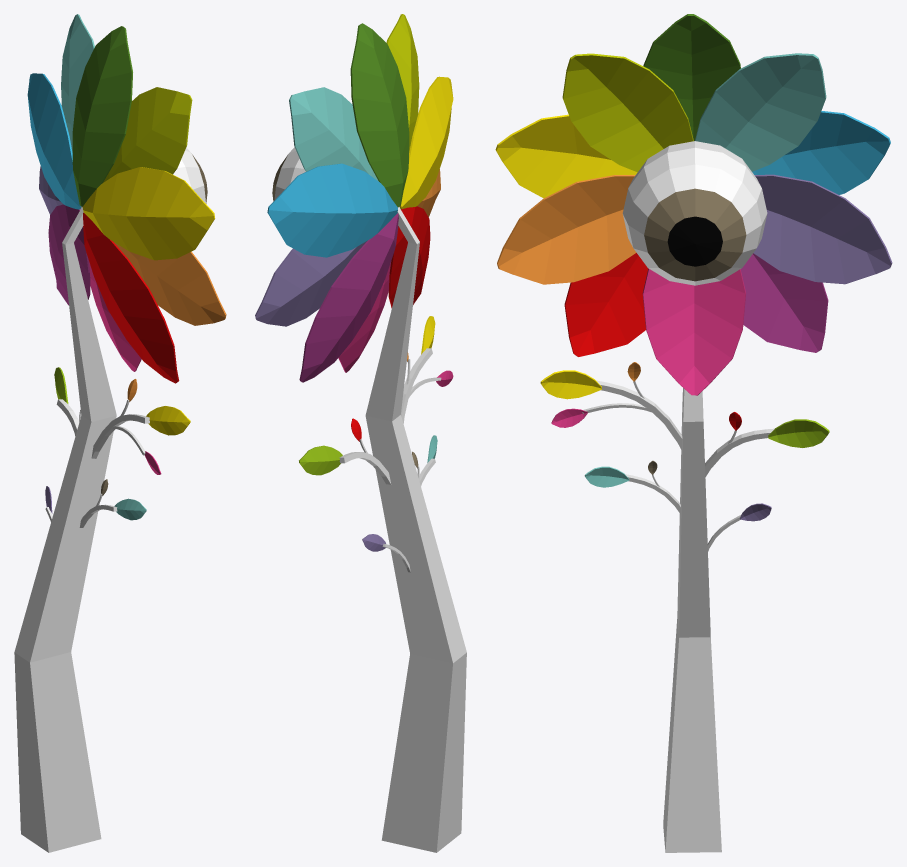
File: SM_Flor_Gra.fbx
3 views of the same model, side by side, from view 1: azimuth 30°, elevation 25°; view 2: azimuth 150°, elevation 25°; view 3: azimuth 270°, elevation 25° (orthographic). The views are drawn at different scales.
Visible parts, largest first — view 1: FLOR_GRA_PETALOS, FLOR_GRA_TALLO, FLOR_GRA_HOJAS; view 2: FLOR_GRA_PETALOS, FLOR_GRA_TALLO, FLOR_GRA_HOJAS; view 3: FLOR_GRA_PETALOS, FLOR_GRA_TALLO, FLOR_GRA_HOJAS.
Boxes of the visible parts, x1,y1,x2,y2 form: FLOR_GRA_PETALOS: (27,14,226,383); FLOR_GRA_TALLO: (14,207,149,852); FLOR_GRA_HOJAS: (45,367,190,520); FLOR_GRA_PETALOS: (255,14,453,382); FLOR_GRA_TALLO: (339,207,466,852); FLOR_GRA_HOJAS: (299,316,453,551); FLOR_GRA_PETALOS: (495,14,892,395); FLOR_GRA_TALLO: (582,380,774,852); FLOR_GRA_HOJAS: (540,362,829,521).
Size of the model in its own units: 121 by 515 by 216.
